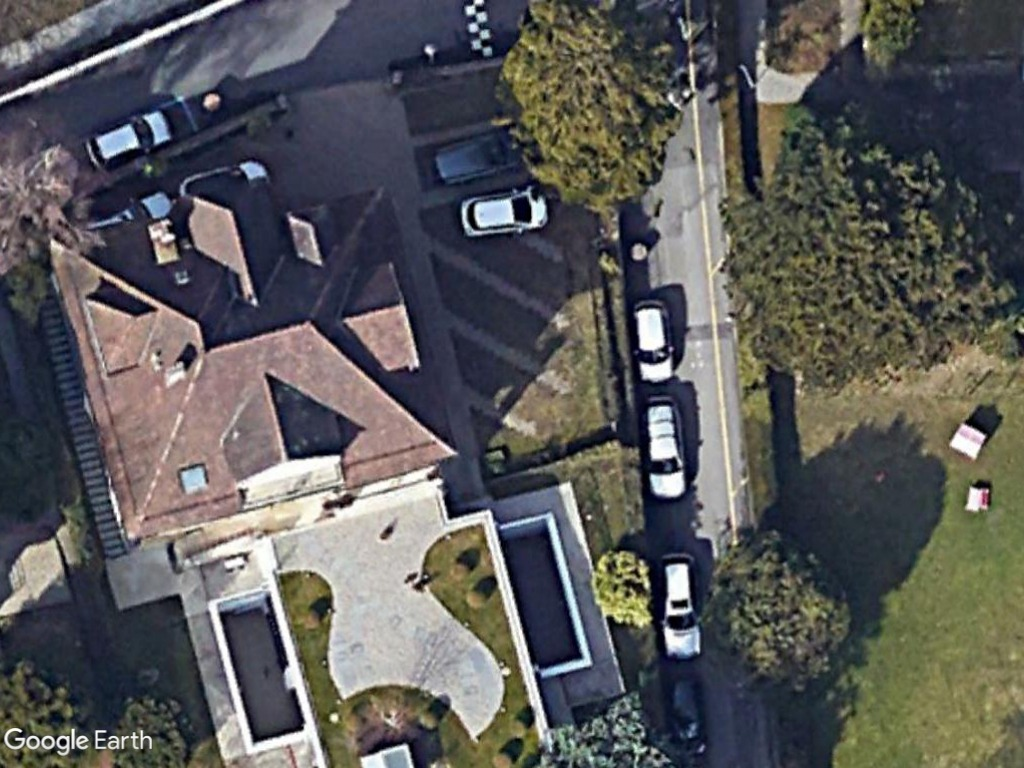car: (653, 546, 706, 663), (82, 106, 173, 174), (641, 391, 690, 502), (456, 187, 552, 239), (625, 295, 677, 385)
